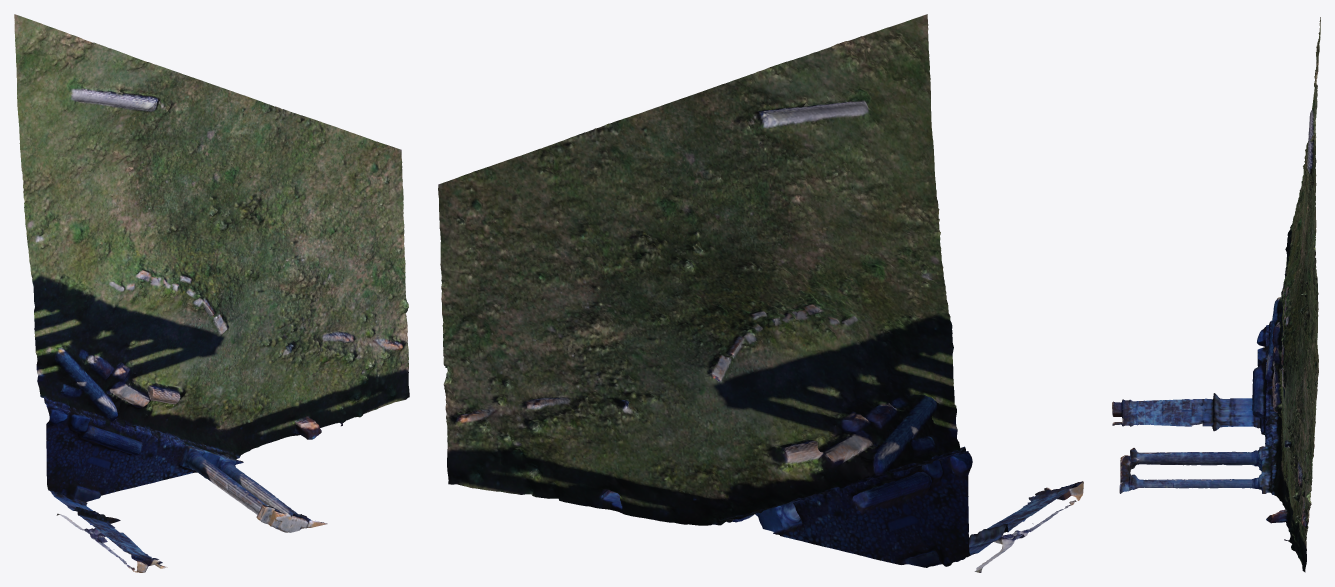
The model's file is Tile_5.fbx.
3 renders of one model, left to right at view 1: azimuth 30°, elevation 25°; view 2: azimuth 150°, elevation 25°; view 3: azimuth 270°, elevation 25°, orthographic. The views are drawn at different scales.
Parts seen in each view (by area): view 1: DefaultName; view 2: DefaultName; view 3: DefaultName.
Boxes of the visible parts, left/top/right/bottom form: DefaultName: left=14, top=14, right=409, bottom=572; DefaultName: left=438, top=14, right=1083, bottom=572; DefaultName: left=1112, top=17, right=1320, bottom=572.
Size of the model in its own units: 27.49 by 32.03 by 15.18.
Materials: 1 (1 with a texture image).
